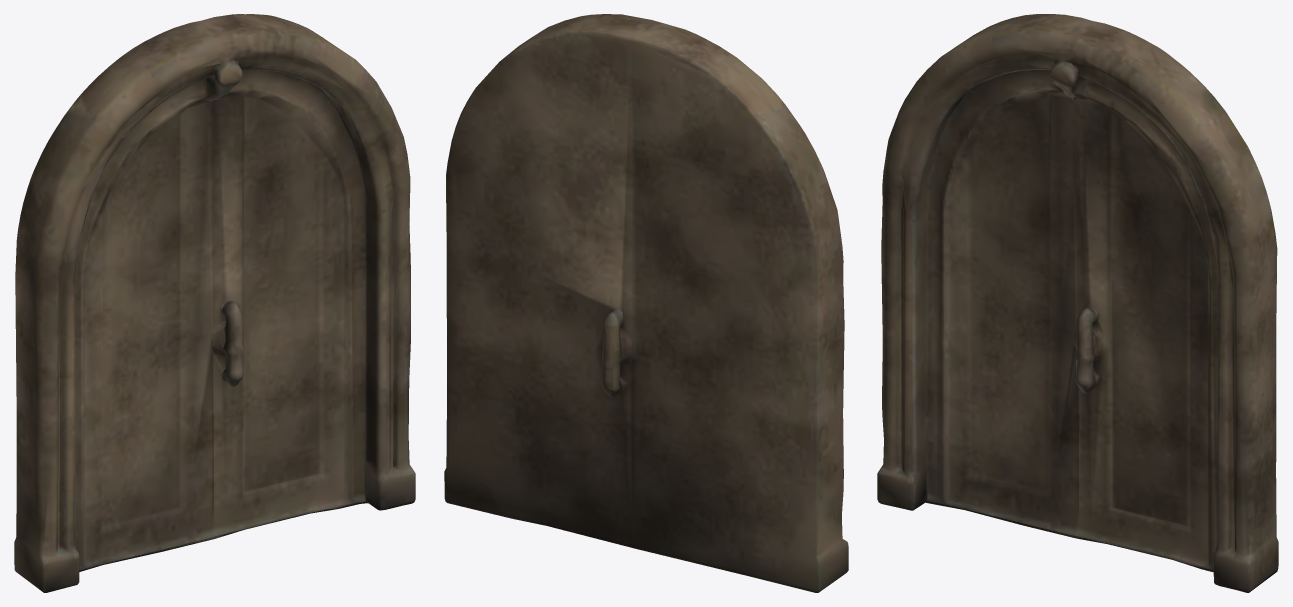
File: weathered-wood-castle-door-v001.glb
3 renders of one model, left to right at view 1: azimuth 30°, elevation 25°; view 2: azimuth 150°, elevation 25°; view 3: azimuth 330°, elevation 25°, orthographic.
Visible parts, largest first — view 1: weathered-wood-castle-door; view 2: weathered-wood-castle-door; view 3: weathered-wood-castle-door.
Boxes of the visible parts, x1,y1,x2,y2 form: weathered-wood-castle-door: [14, 14, 415, 592]; weathered-wood-castle-door: [444, 14, 848, 592]; weathered-wood-castle-door: [877, 14, 1278, 592].
Bounding box in the file's own units: 2.11 × 2.74 × 0.4222.
1 material, 1 textured.
